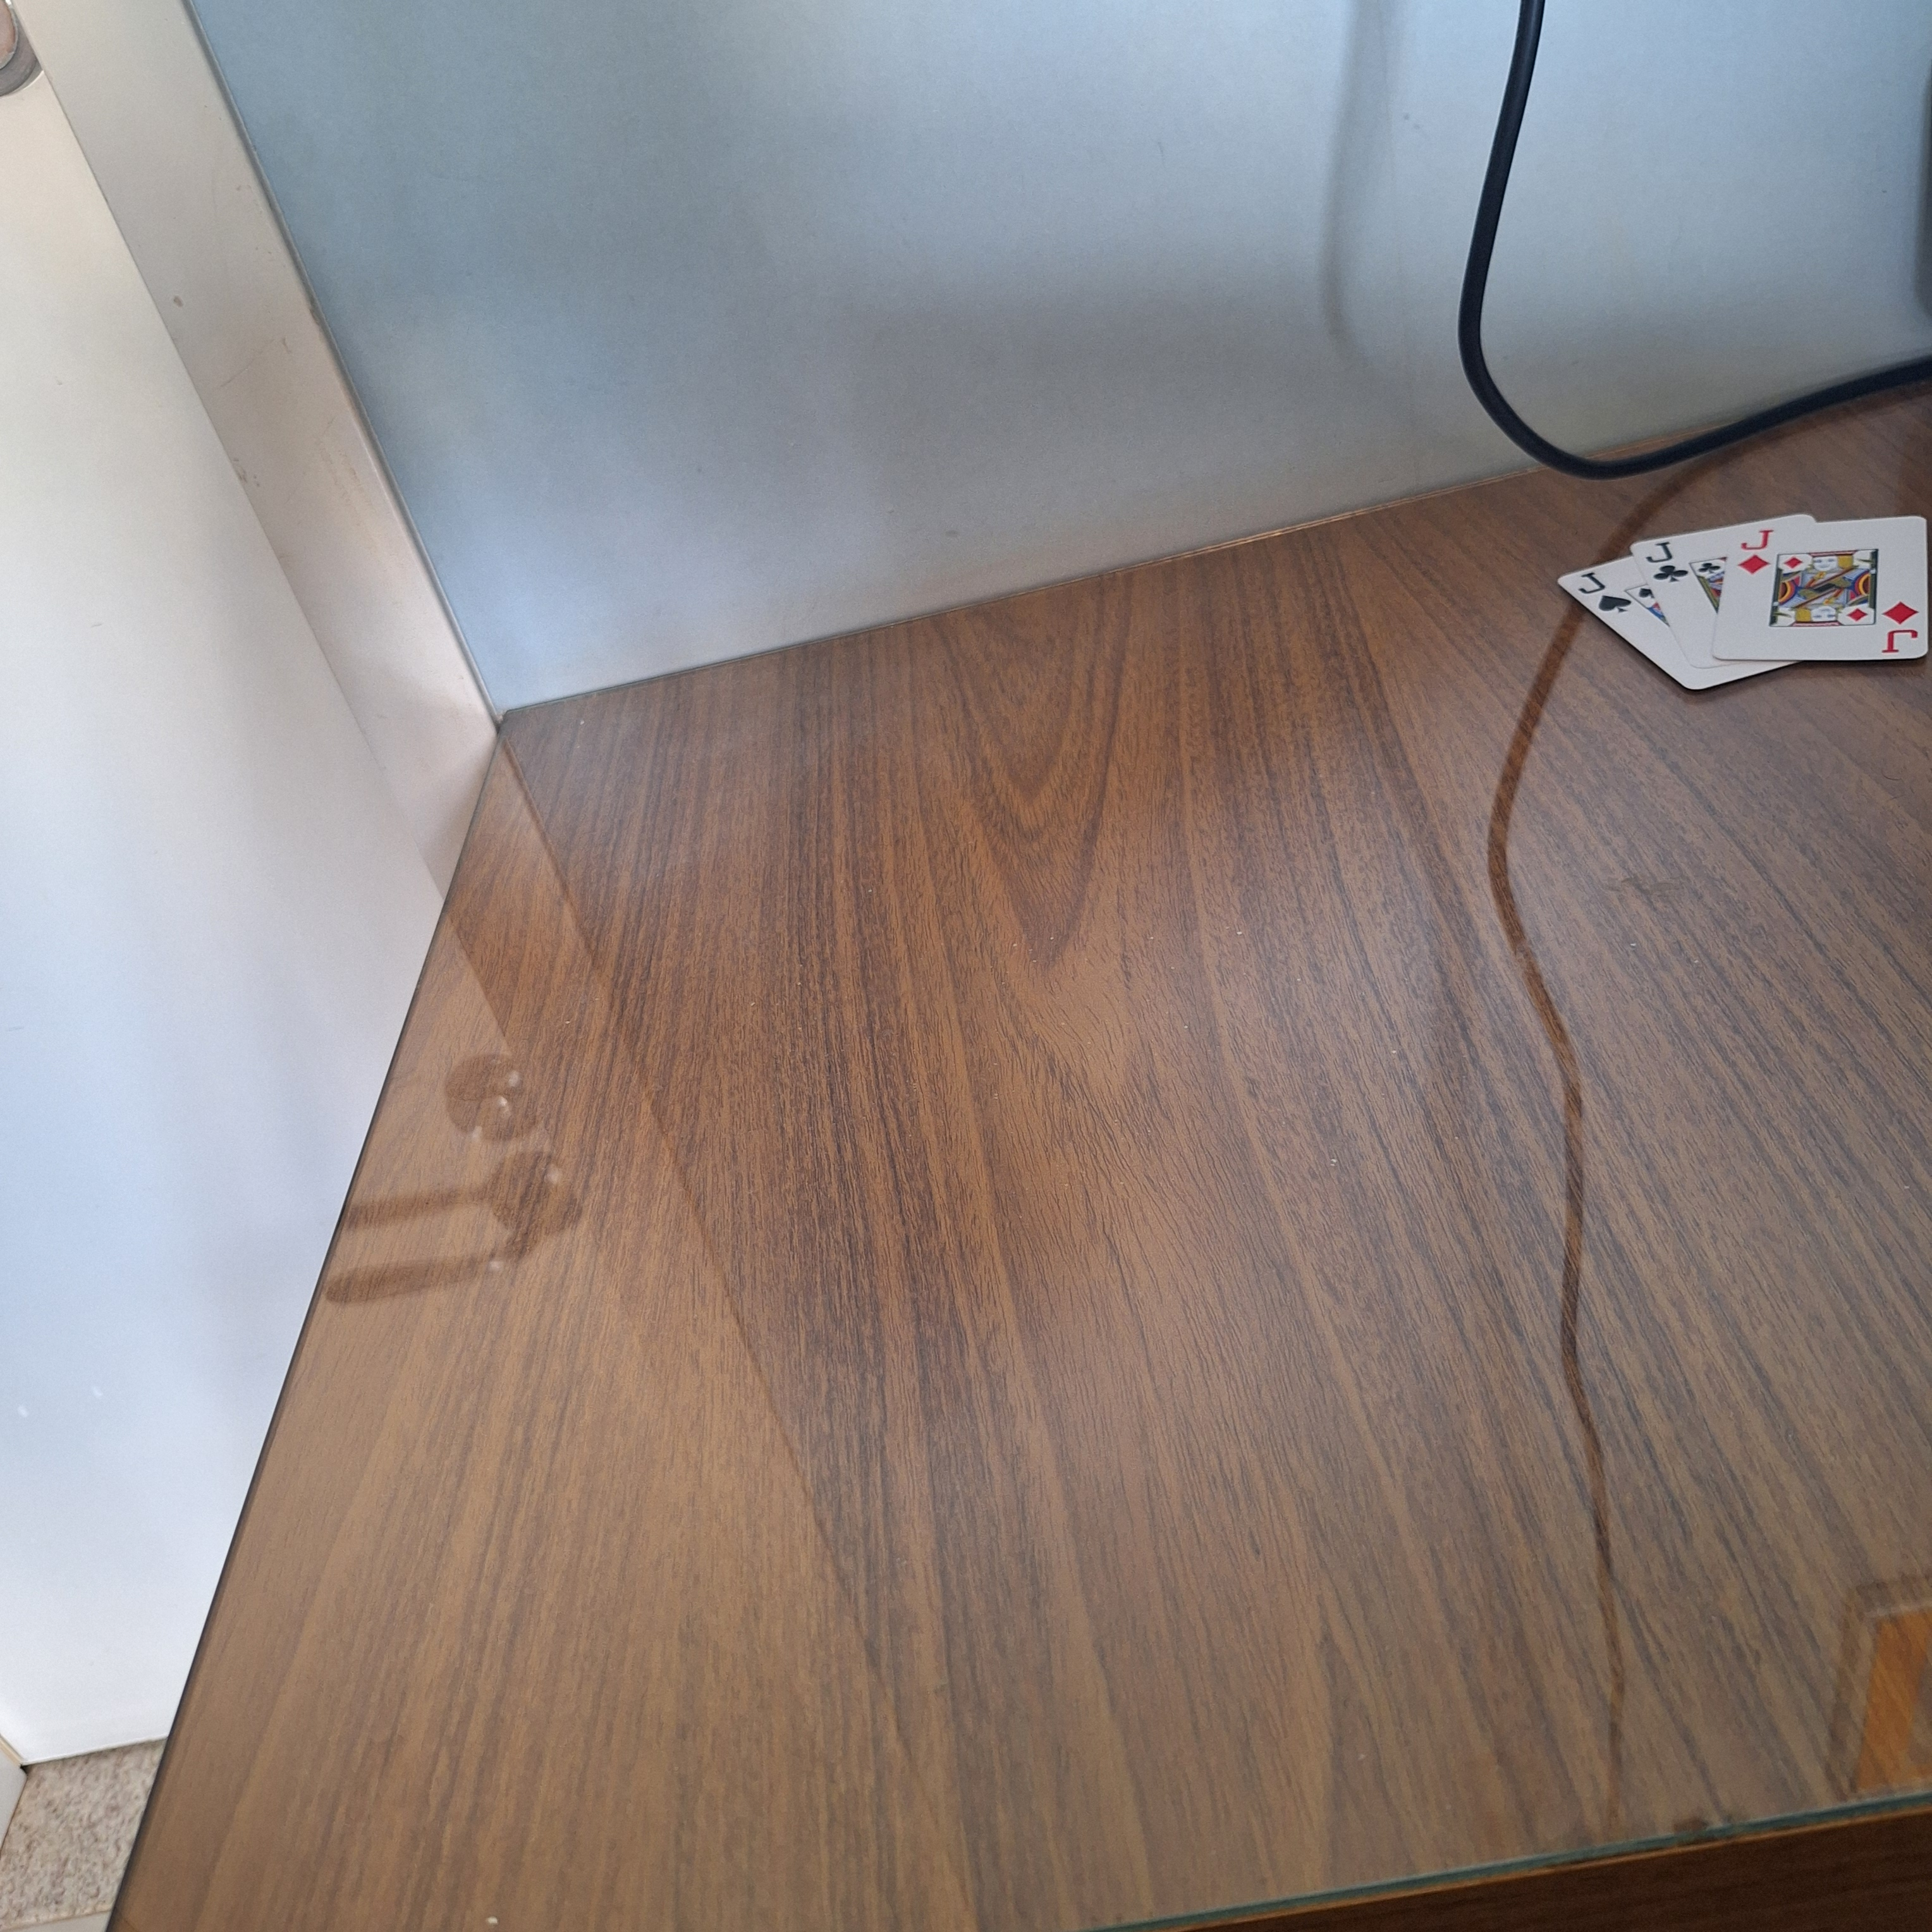JE: (1569, 566, 1637, 617)
JO: (1875, 594, 1927, 663), (1730, 522, 1778, 579)
JP: (1640, 538, 1691, 587)
